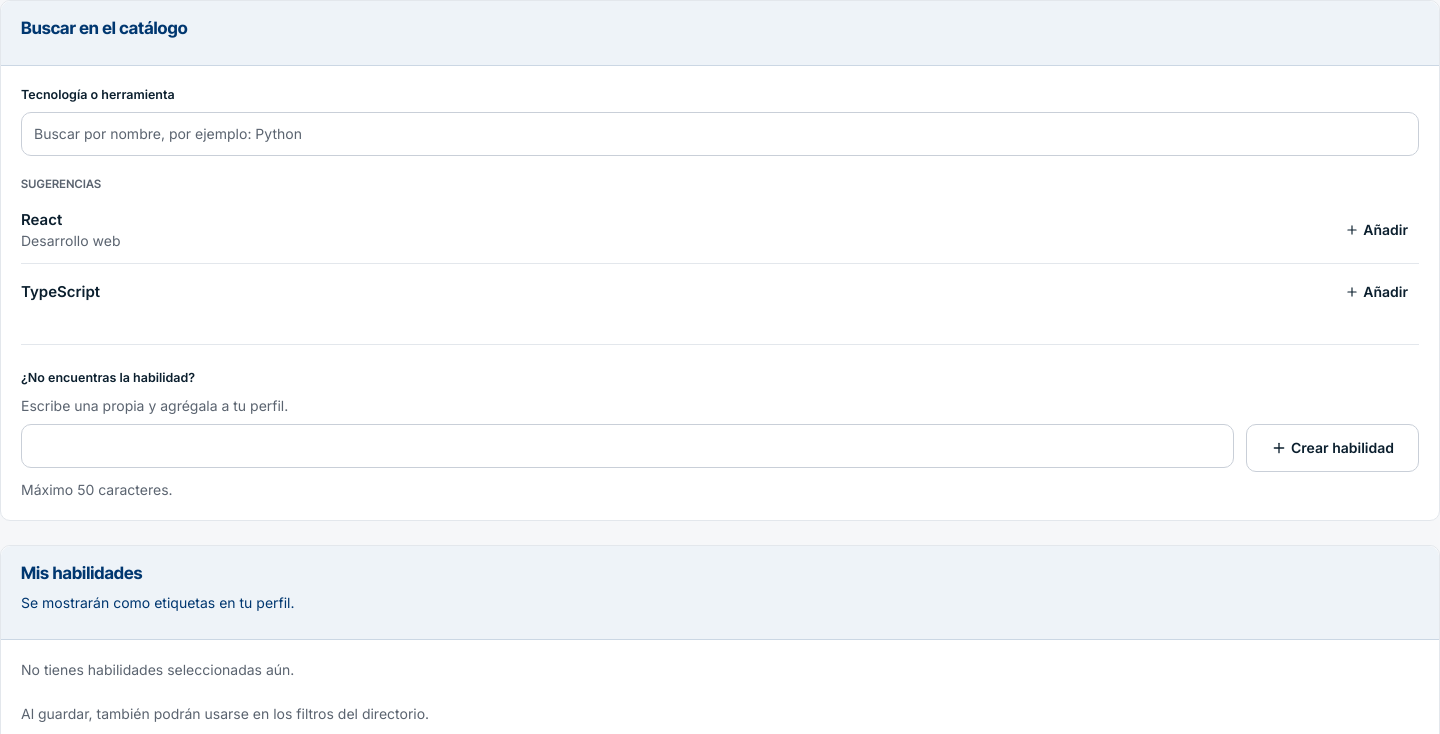
Scenario: SkillsSelector › does not create a custom skill with meaningless text
Type "9999999" into the field labelled "¿No encuentras la habilidad?".
click(628, 446); type("9999999")  # box [21,424,1234,468]
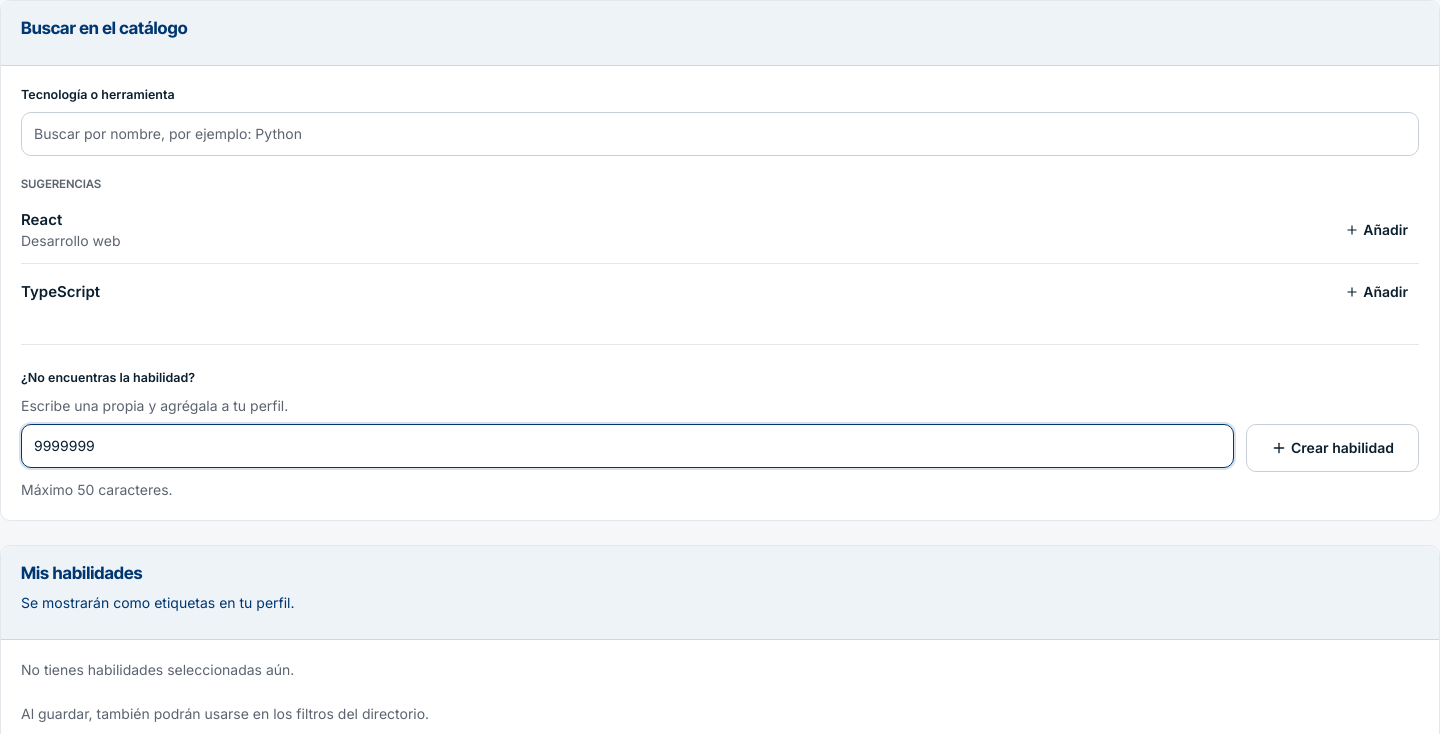
Click the button "Crear habilidad".
click(1332, 448)  # box [1246,424,1419,472]
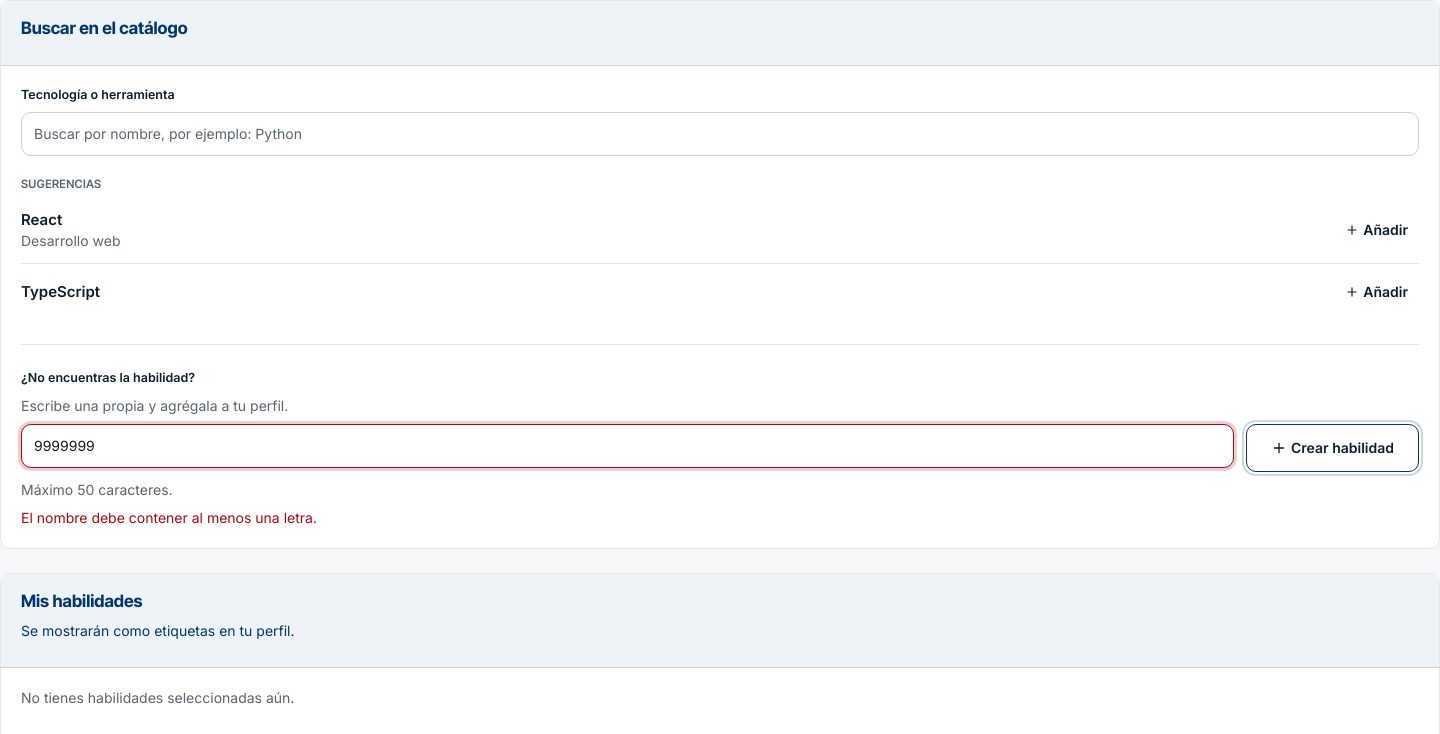
Result: the text "El nombre debe contener al menos una letra." is shown at [21,509,317,526]
